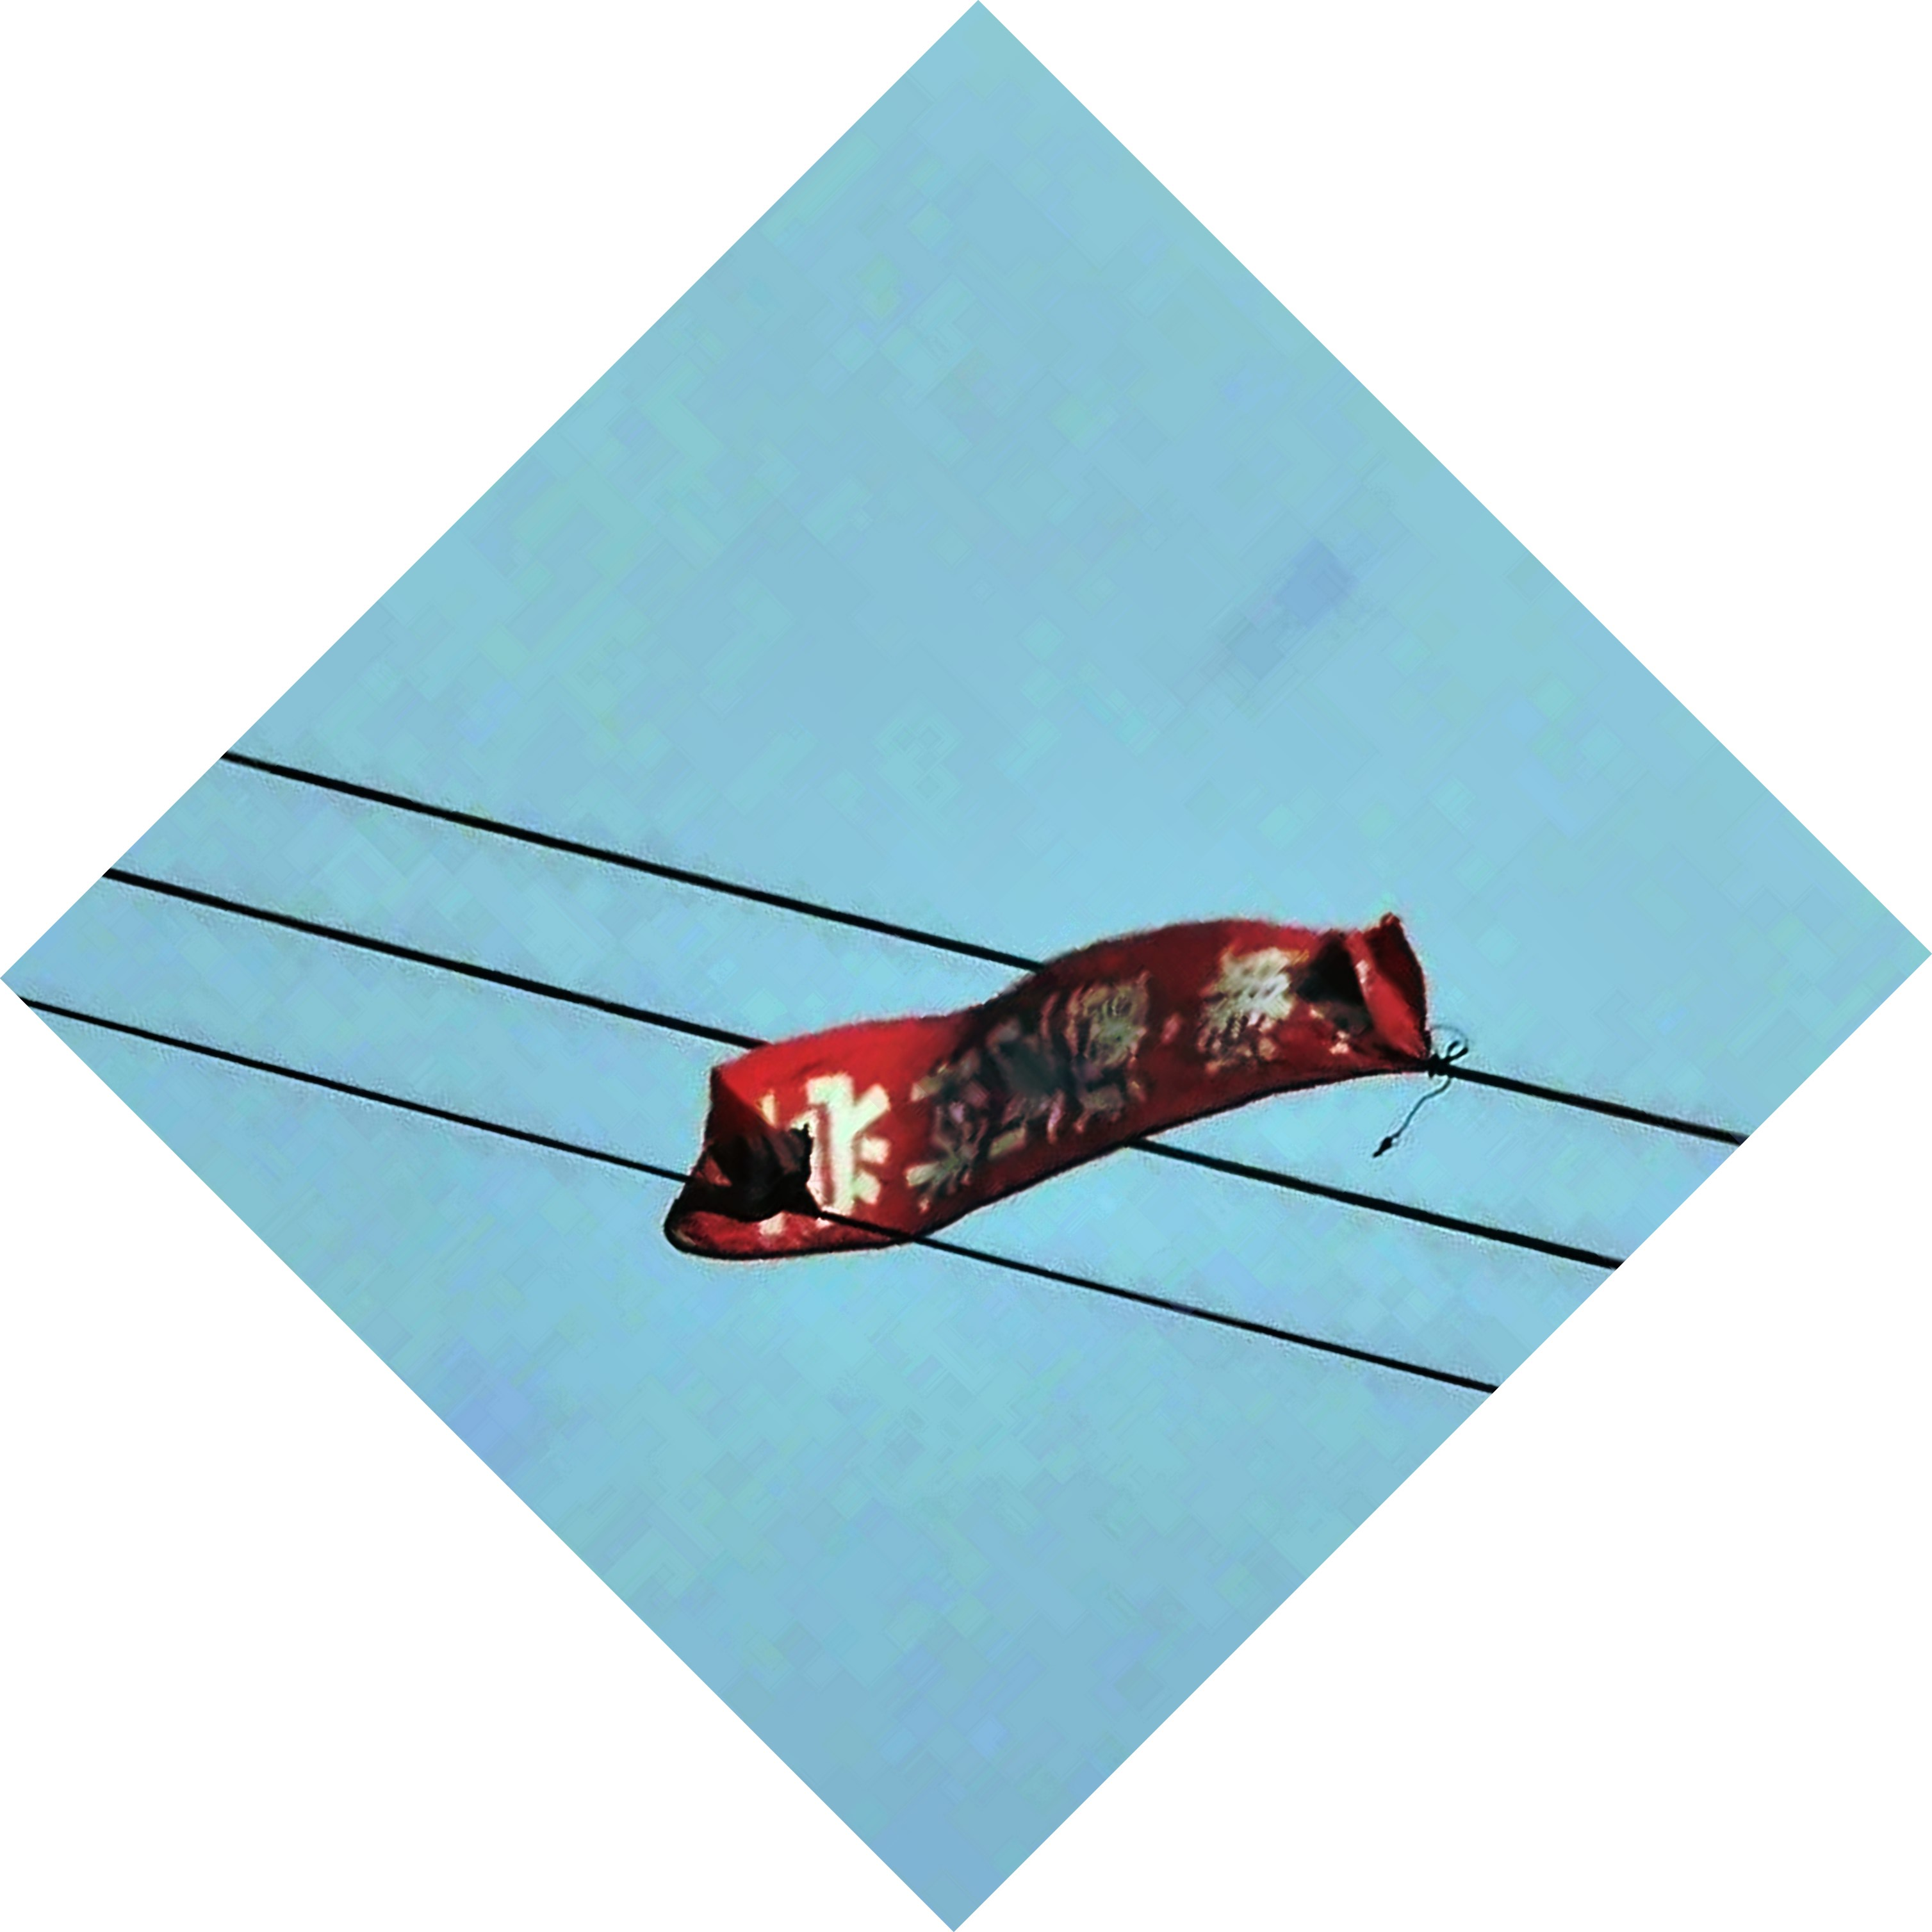wire foreign body: (639, 863, 1449, 1316)
